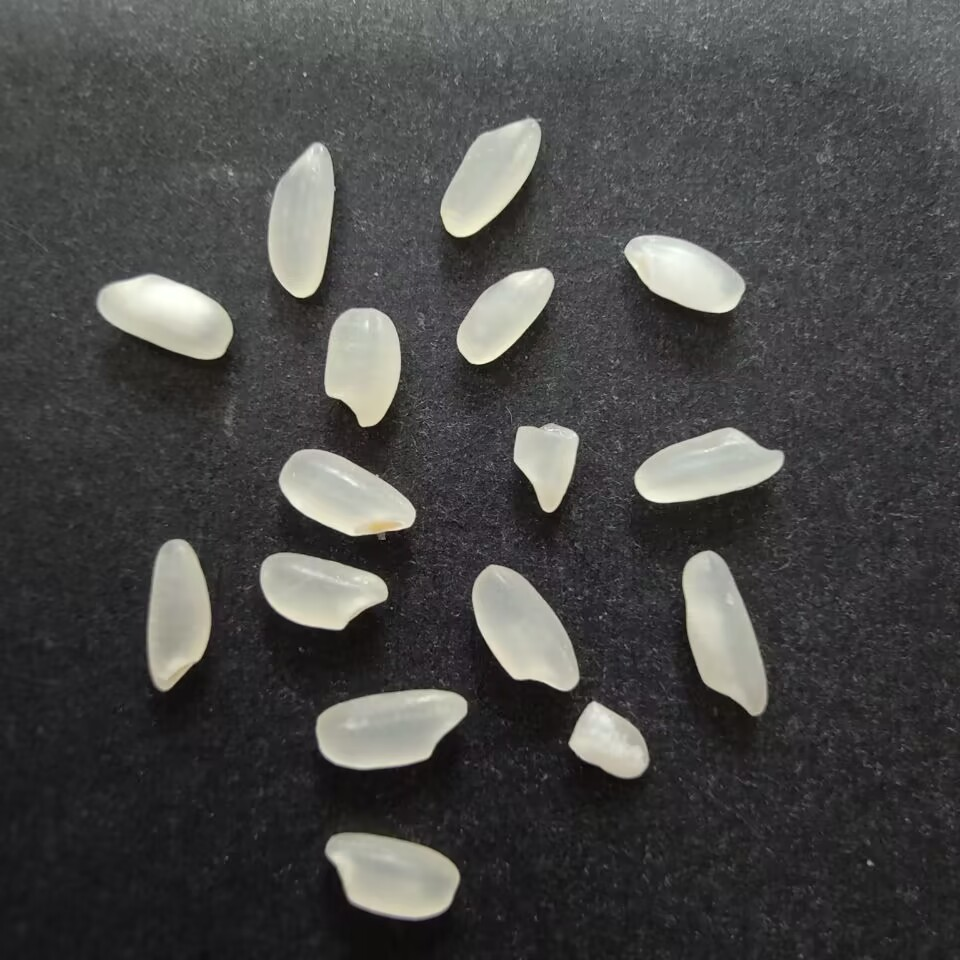broken: (565, 696, 653, 788), (507, 417, 584, 520)
rice: (676, 549, 769, 722), (468, 562, 583, 696), (316, 830, 464, 924), (313, 684, 470, 772), (437, 114, 545, 240), (277, 445, 418, 541), (92, 272, 233, 368), (633, 425, 786, 508), (265, 139, 338, 304), (140, 535, 213, 698), (255, 552, 392, 633), (621, 233, 747, 318), (321, 304, 404, 432), (453, 263, 555, 367)
